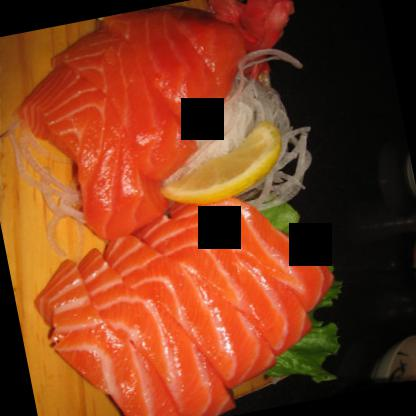salmon: (17, 181, 351, 415), (0, 0, 271, 246)
